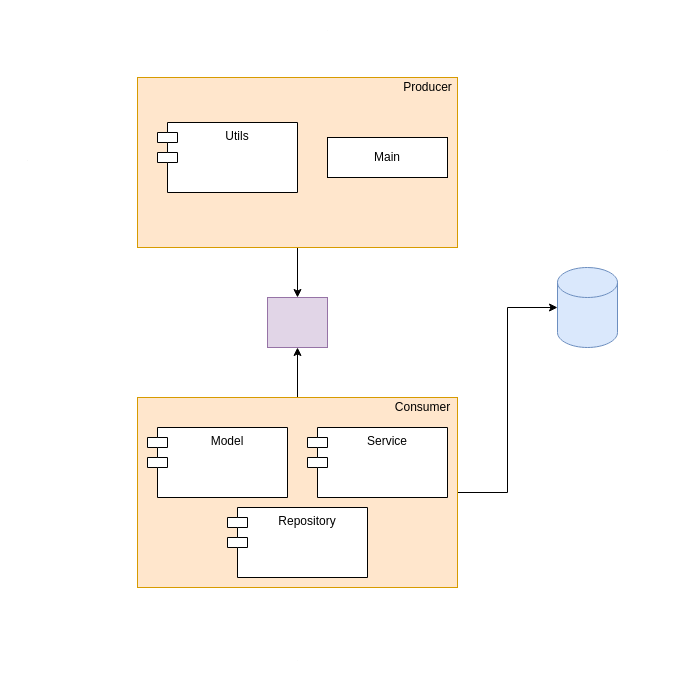
Image size: 694x684. Some labels were removed from this diagram. Each missing label, with the centre of its shape:
Async database: pixel 587 307
Message Queue: pixel 297 322
